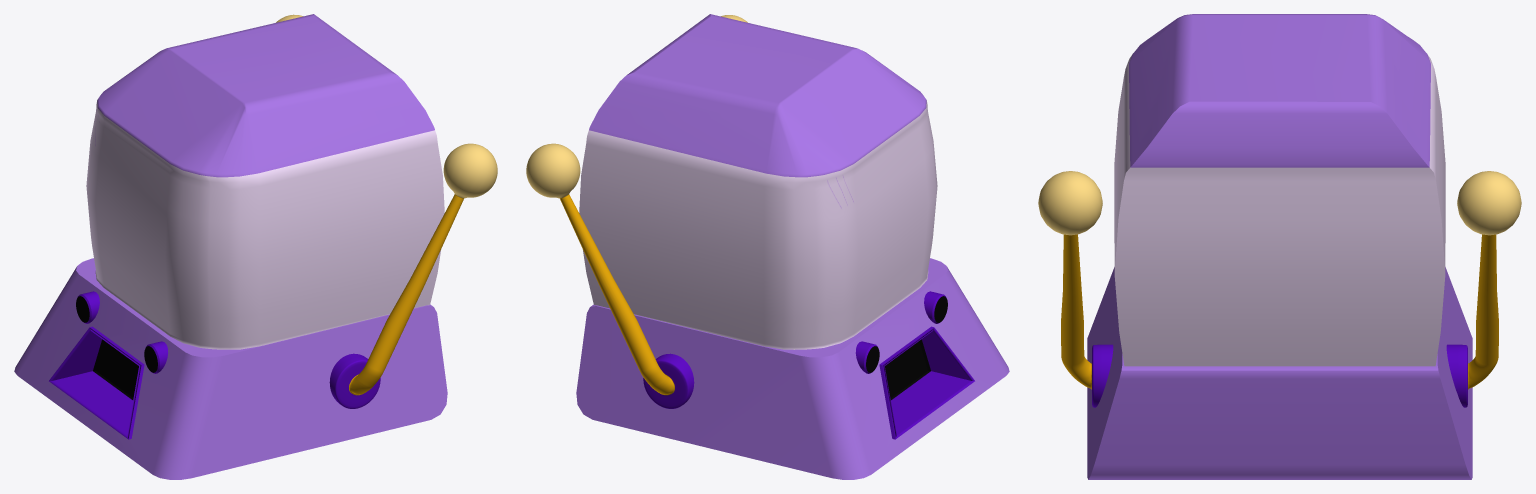
File: machine.fbx
3 renders of one model, left to right at view 1: azimuth 30°, elevation 25°; view 2: azimuth 150°, elevation 25°; view 3: azimuth 270°, elevation 25°, orthographic. The views are drawn at different scales.
Parts seen in each view (by area): view 1: polySurface22, polySurface18, polySurface23, polySurface19, polySurface20; view 2: polySurface22, polySurface18, polySurface21, polySurface20, polySurface19; view 3: polySurface22, polySurface18, polySurface23, polySurface21.
Part boxes in pixels (<box>): polySurface22: <box>86,14,444,349</box>; polySurface18: <box>14,258,447,479</box>; polySurface23: <box>329,143,497,408</box>; polySurface19: <box>144,341,167,373</box>; polySurface20: <box>76,291,99,323</box>; polySurface22: <box>579,14,937,349</box>; polySurface18: <box>576,258,1009,479</box>; polySurface21: <box>526,143,694,408</box>; polySurface20: <box>855,341,879,373</box>; polySurface19: <box>924,291,947,323</box>; polySurface22: <box>1114,14,1445,366</box>; polySurface18: <box>1087,267,1472,479</box>; polySurface23: <box>1038,171,1113,407</box>; polySurface21: <box>1446,171,1521,407</box>.
Size of the model in its own units: 13.67 by 12.99 by 14.98.
